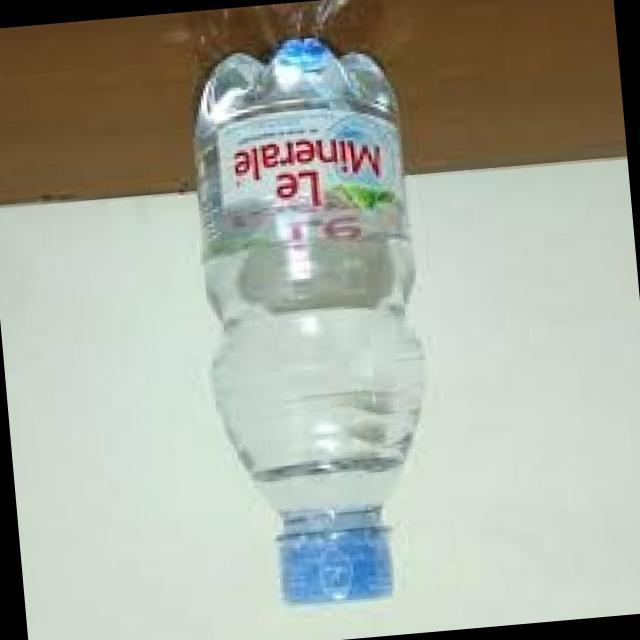good: (132, 24, 467, 636)
